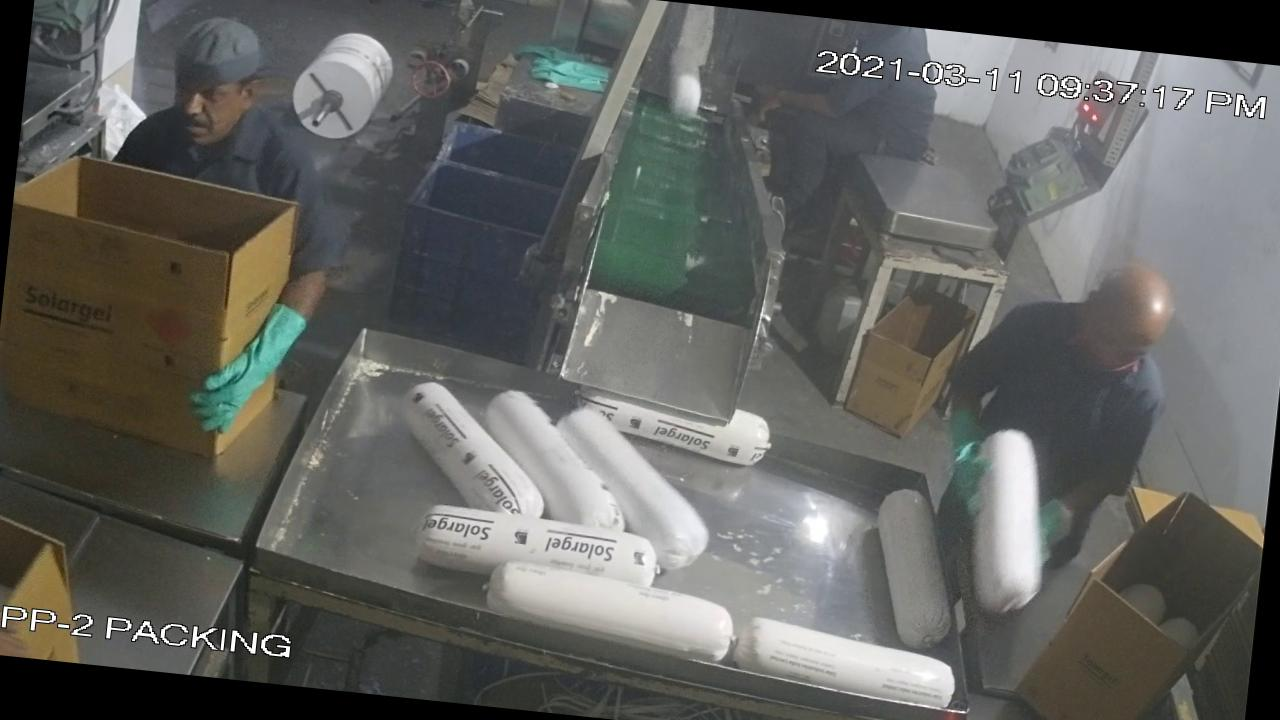Gloves: (188, 285, 308, 452)
No-gloves: (745, 74, 860, 131)
